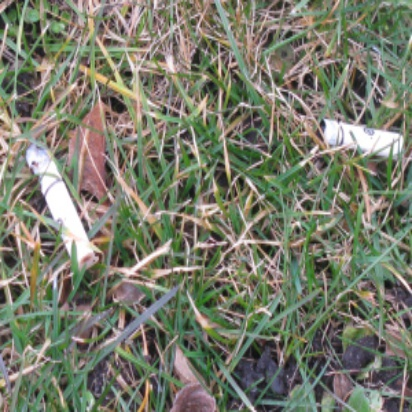cigarette: (19, 133, 104, 272), (316, 115, 405, 160)
